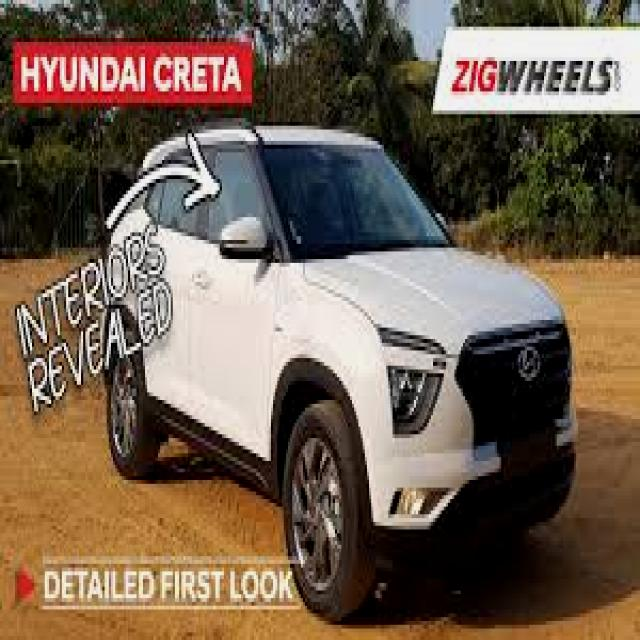SUV: (103, 121, 577, 616)
